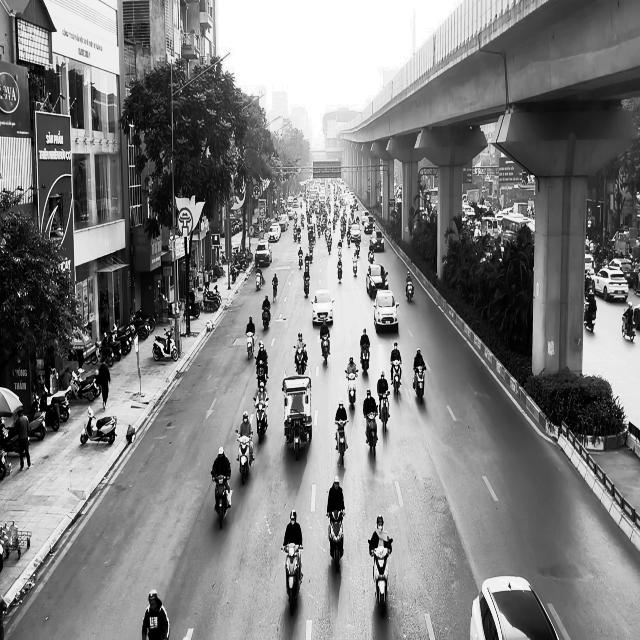car: (470, 575, 561, 639), (591, 267, 629, 302), (373, 289, 399, 333), (311, 288, 334, 324), (366, 264, 388, 298), (255, 240, 271, 267), (370, 230, 384, 251)
motorbike: (368, 538, 392, 617), (281, 543, 303, 614), (80, 406, 117, 445), (211, 471, 232, 529), (326, 510, 345, 571), (235, 430, 254, 484), (152, 328, 178, 361), (253, 396, 268, 444), (364, 411, 378, 458), (334, 419, 348, 465), (412, 365, 426, 404), (345, 368, 358, 409), (378, 391, 390, 432), (254, 356, 268, 388), (293, 343, 307, 375), (390, 360, 402, 395), (622, 312, 636, 341), (584, 303, 596, 332), (360, 343, 370, 372), (320, 334, 330, 363), (246, 331, 254, 359), (405, 278, 414, 302), (262, 307, 271, 329), (256, 270, 264, 290), (337, 259, 343, 283), (303, 275, 309, 297), (352, 255, 358, 276), (272, 282, 277, 302)
